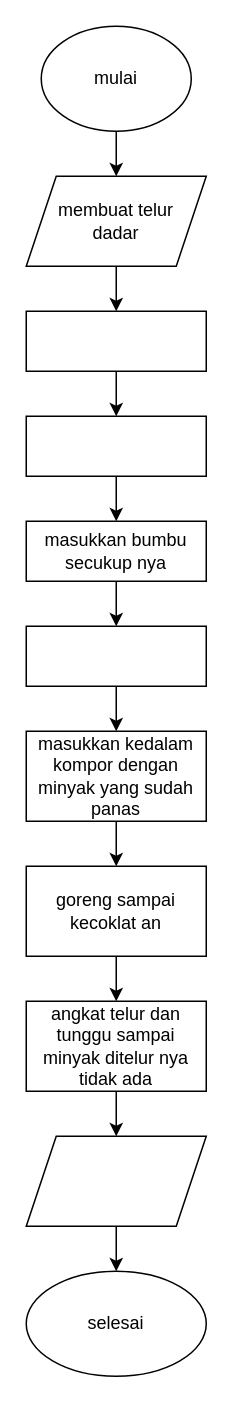
Image size: 233x1403. Some labels were removed from this diagram. Each missing label, with the centre of its shape:
"aduk sampai merata" belongs at point 115,655.
"pecahkan telor kedalam mangkok" belongs at point 115,445.
"siap di hidangkan" belongs at point 115,1180.
"siapkan mangkok sendok,bumbu yang diperlukan" belongs at point 115,340.
